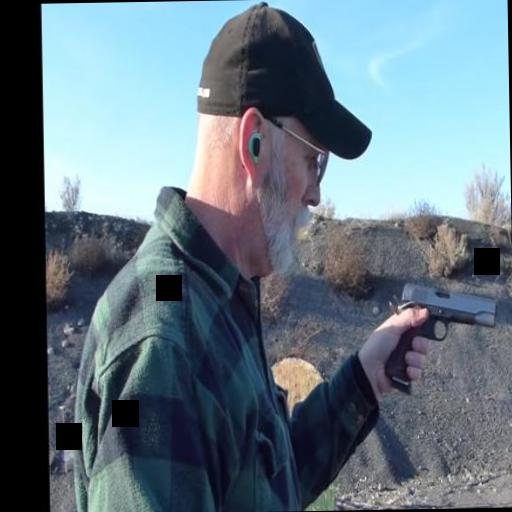Handgun: (383, 277, 498, 391)
